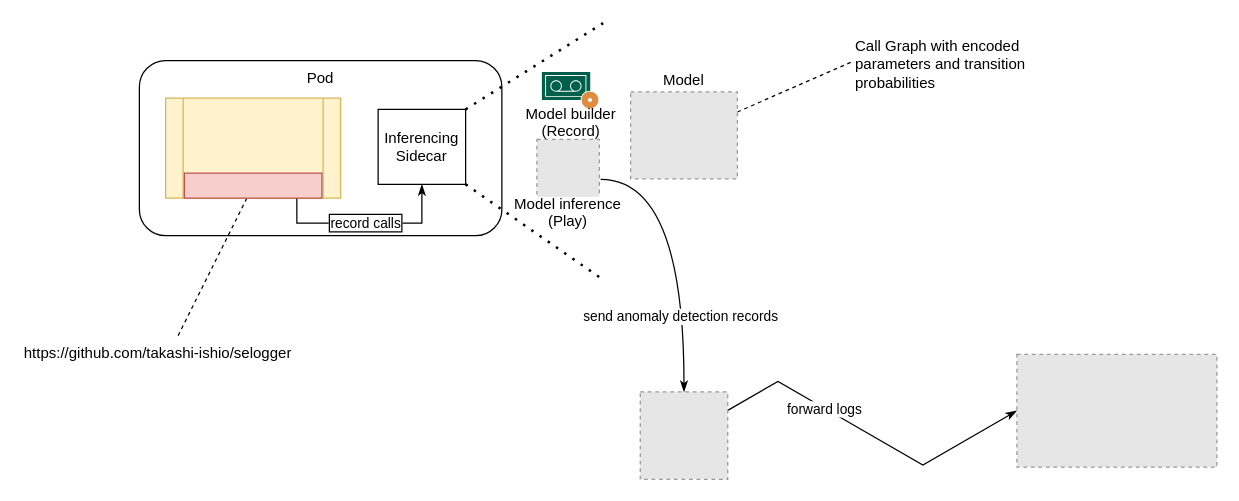
Image size: 1239x501. Some labels were removed from this diagram. Grey dashed boxes stand in for pictures. Here are the shapes that lost their labels. From the top down, the box of each, then its label:
(164, 97, 341, 198): Web Server
(183, 172, 322, 198): StackTraceLogger
